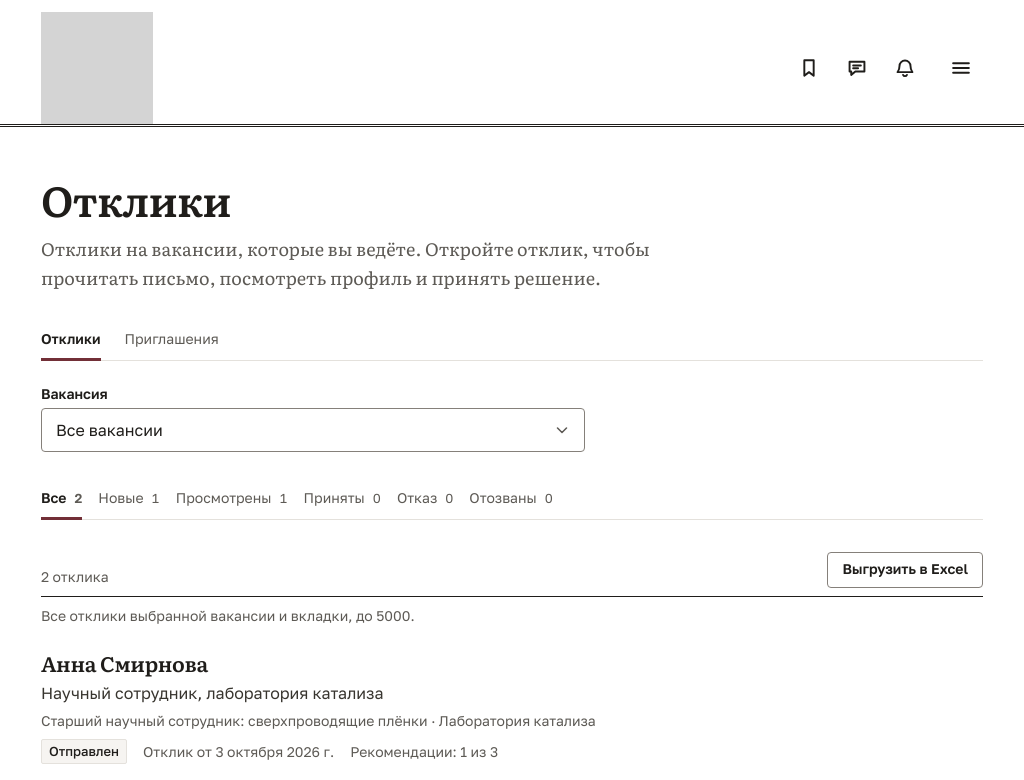
Test: candidates list › export to a file › explains what goes into the file and saves it under the name the server gave
Expected: the text "Все отклики выбранной вакансии и вкладки, до 5000." is shown, [41,607,415,624]
Click the button "Выгрузить в Excel" at (905, 570), box [828,552,983,588]
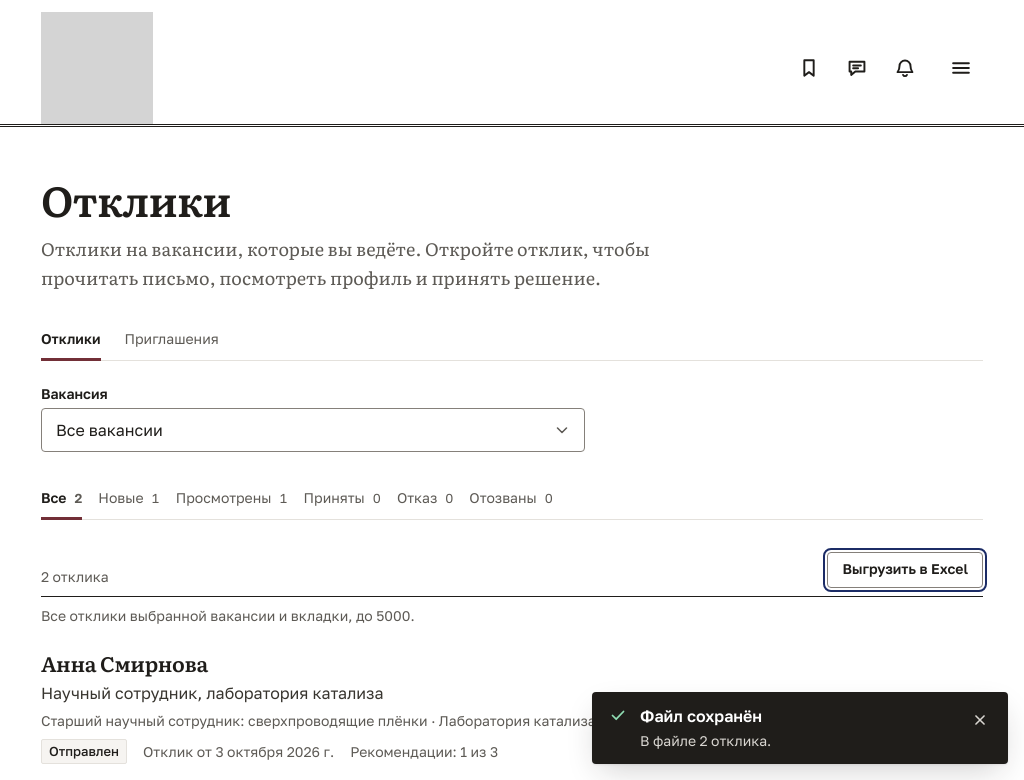
Now the text "Файл сохранён" is shown, box [640,706,762,726]
Now the text "В файле 2 отклика." is shown, box [640,732,771,749]
